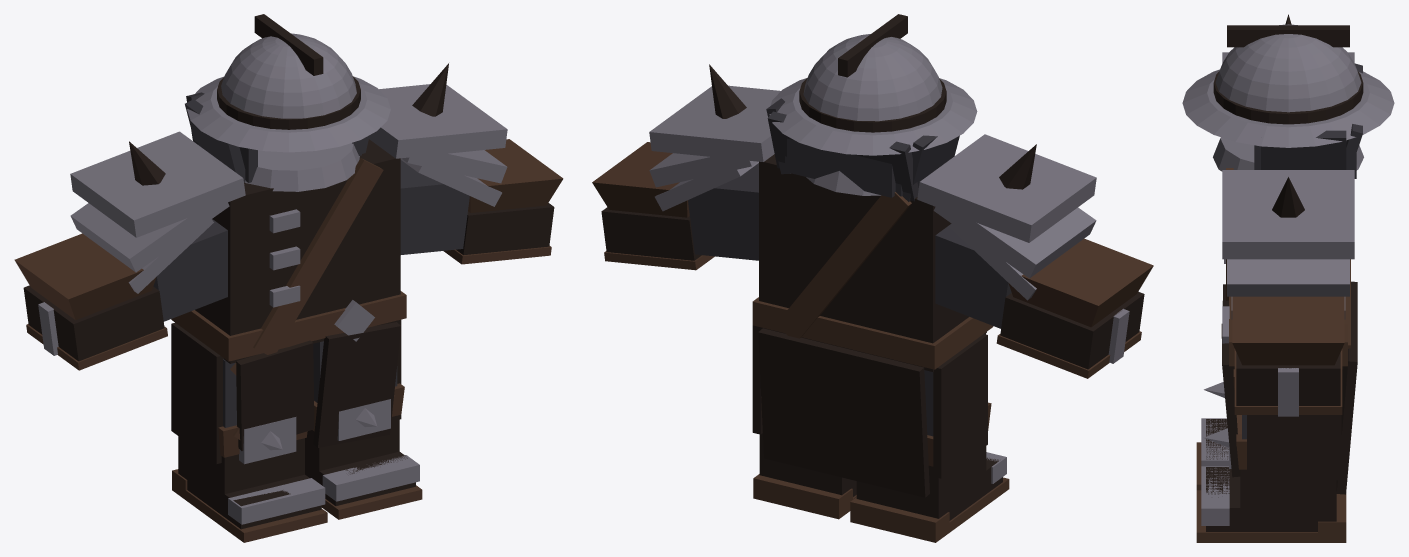
File: ReaperArmorSet.ready.glb
3 renders of one model, left to right at view 1: azimuth 30°, elevation 25°; view 2: azimuth 150°, elevation 25°; view 3: azimuth 270°, elevation 25°, orthographic. The views are drawn at different scales.
Parts seen in each view (by area): view 1: Chestplate, RightUpperArm, Helmet, LeftUpperArm, RightLowerArm, RightBoots, LeftLowerArm, LeftBoots, RightLeggings, LeftLeggings; view 2: Chestplate, RightUpperArm, Helmet, LeftUpperArm, RightLowerArm, LeftLowerArm, RightBoots, LeftBoots; view 3: Helmet, LeftUpperArm, Chestplate, LeftLowerArm, LeftBoots, RightBoots, LeftLeggings.
Boxes of the visible parts, bbox=[...] form: Chestplate: bbox=[171, 92, 406, 463]; RightUpperArm: bbox=[70, 131, 245, 321]; Helmet: bbox=[187, 14, 390, 182]; LeftUpperArm: bbox=[369, 63, 507, 254]; RightLowerArm: bbox=[14, 233, 167, 370]; RightBoots: bbox=[172, 425, 327, 542]; LeftLowerArm: bbox=[443, 139, 563, 264]; LeftBoots: bbox=[305, 383, 422, 519]; RightLeggings: bbox=[223, 359, 296, 464]; LeftLeggings: bbox=[313, 341, 397, 440]; Chestplate: bbox=[752, 98, 993, 497]; RightUpperArm: bbox=[917, 134, 1096, 328]; Helmet: bbox=[769, 14, 977, 197]; LeftUpperArm: bbox=[649, 64, 780, 260]; RightLowerArm: bbox=[996, 238, 1153, 378]; LeftLowerArm: bbox=[592, 142, 714, 270]; RightBoots: bbox=[850, 402, 1009, 542]; LeftBoots: bbox=[753, 397, 856, 519]; Helmet: bbox=[1182, 24, 1394, 178]; LeftUpperArm: bbox=[1222, 170, 1354, 319]; Chestplate: bbox=[1213, 63, 1363, 494]; LeftLowerArm: bbox=[1232, 296, 1344, 416]; LeftBoots: bbox=[1196, 434, 1346, 542]; RightBoots: bbox=[1196, 418, 1228, 490]; LeftLeggings: bbox=[1204, 369, 1246, 468].
Size of the model in its own units: 6.28 by 5.48 by 2.24.
1 material, 1 textured.
